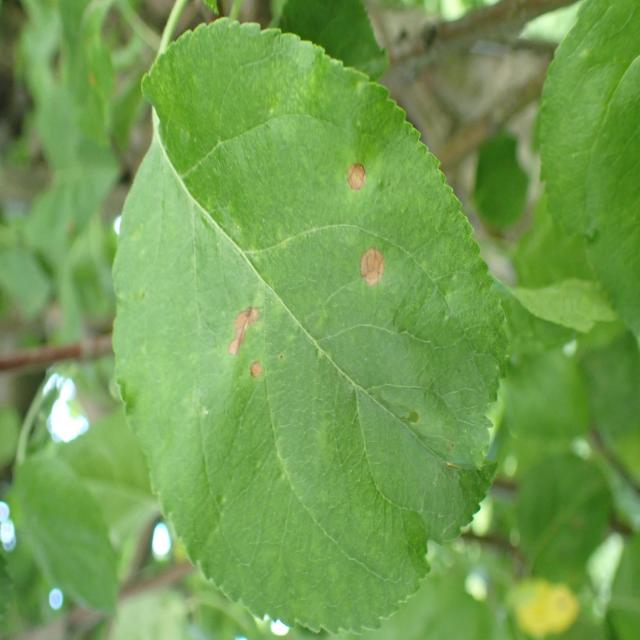Black Rot: (210, 271, 271, 397), (335, 222, 403, 310), (318, 142, 385, 208)
